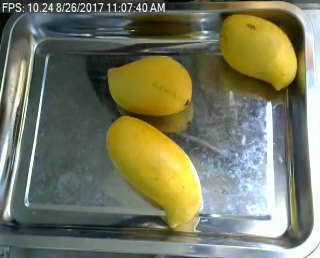Mango: (104, 112, 204, 229), (216, 12, 300, 92), (103, 52, 196, 118)
